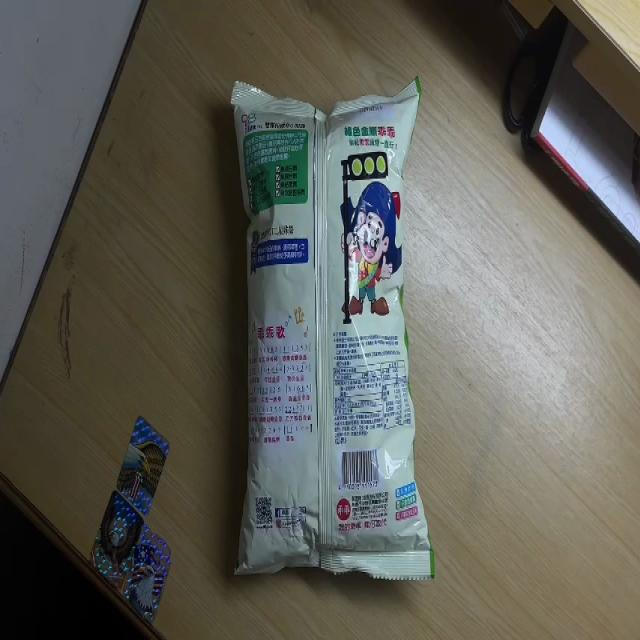Good-Luck: (227, 74, 434, 582)
